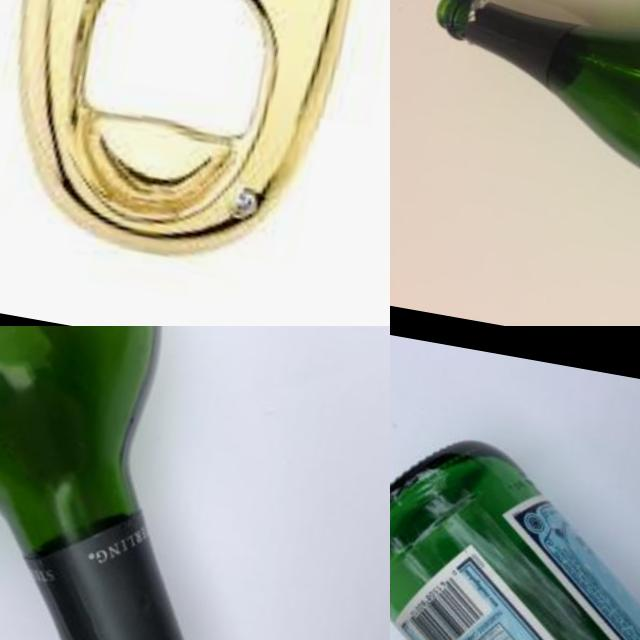aba de lata: (0, 0, 390, 271)
garrafa de vidro: (0, 326, 303, 640), (404, 0, 640, 272), (390, 420, 640, 640)
